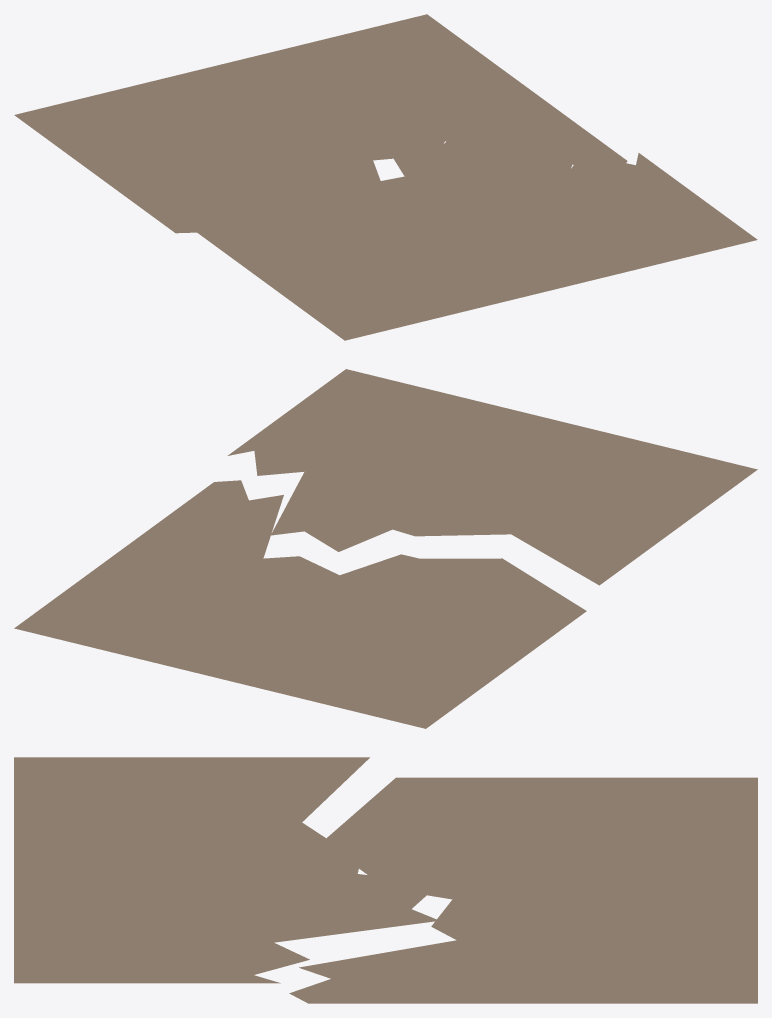
File: Letter5.fbx
3 renders of one model, top to bottom at view 1: azimuth 30°, elevation 25°; view 2: azimuth 150°, elevation 25°; view 3: azimuth 270°, elevation 25°, orthographic. The views are drawn at different scales.
Visible parts, largest first — view 1: Cube.052, Cube.051; view 2: Cube.052, Cube.051; view 3: Cube.052, Cube.051.
Part boxes in pixels (left/top/right/bottom): Cube.052: left=14, top=14, right=627, bottom=233; Cube.051: left=186, top=129, right=757, bottom=340; Cube.052: left=14, top=480, right=586, bottom=728; Cube.051: left=227, top=369, right=757, bottom=585; Cube.052: left=289, top=777, right=757, bottom=1003; Cube.051: left=14, top=757, right=439, bottom=983.
Bounding box in the file's own units: 60.54 × 2.45 × 84.01.
